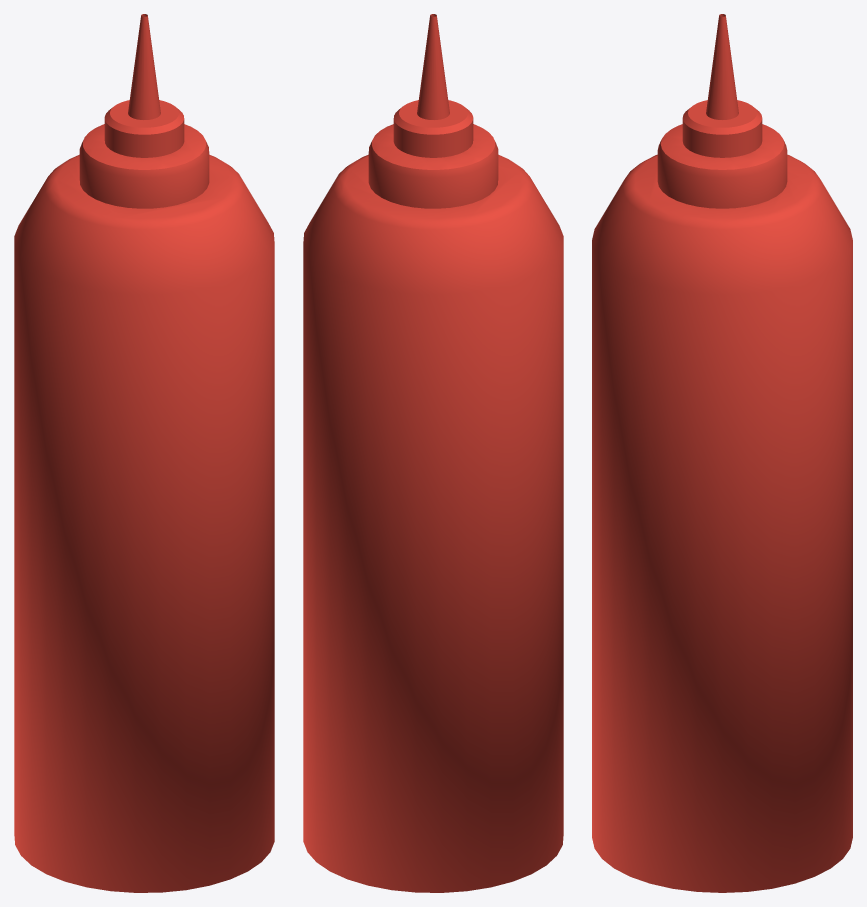
The model's file is Ketchup.fbx.
3 views of the same model, side by side, from view 1: azimuth 30°, elevation 25°; view 2: azimuth 150°, elevation 25°; view 3: azimuth 270°, elevation 25° (orthographic).
Parts seen in each view (by area): view 1: Ketchup; view 2: Ketchup; view 3: Ketchup.
Boxes of the visible parts, x1,y1,x2,y2 form: Ketchup: (14,14,274,892); Ketchup: (303,14,563,892); Ketchup: (592,14,852,892).
Bounding box in the file's own units: 7.81 × 7.81 × 27.18.
